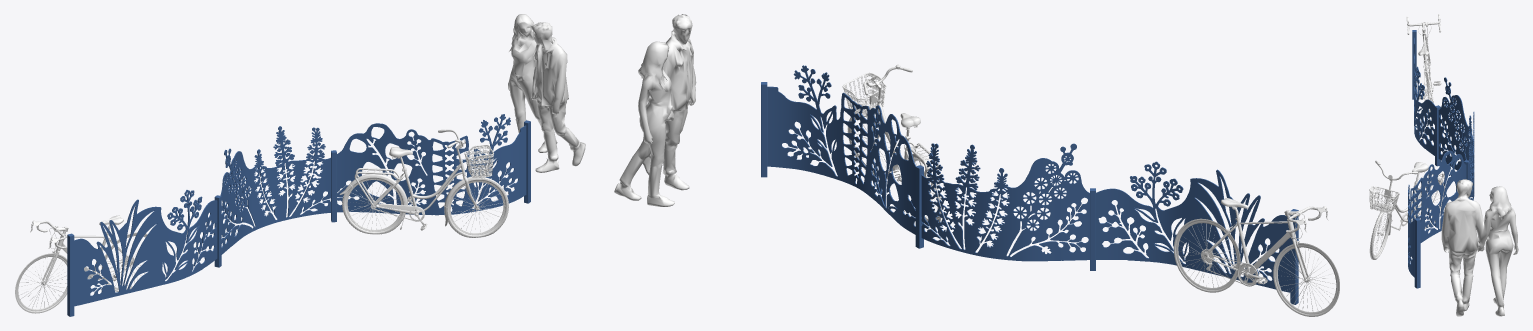
3 renders of one model, left to right at view 1: azimuth 30°, elevation 25°; view 2: azimuth 150°, elevation 25°; view 3: azimuth 270°, elevation 25°, orthographic. The views are drawn at different scales.
Parts seen in each view (by area): view 1: bike_rack, Couple, polySurface845_lambert1_001, Bike, Line002, Line001, Line423, Line422; view 2: bike_rack, Couple, Bike, polySurface845_lambert1_001, Line001, Line423, Line002; view 3: bike_rack, Couple, polySurface845_lambert1_001, Bike, Line001, Line422, Line002.
Boxes of the visible parts, bbox=[...] form: bike_rack: bbox=[74, 114, 526, 306]; Couple: bbox=[508, 14, 585, 172]; polySurface845_lambert1_001: bbox=[339, 129, 508, 237]; Bike: bbox=[15, 215, 147, 313]; Line002: bbox=[67, 233, 74, 316]; Line001: bbox=[524, 120, 530, 203]; Line423: bbox=[331, 150, 336, 222]; Line422: bbox=[214, 195, 221, 267]; bike_rack: bbox=[767, 65, 1290, 292]; Couple: bbox=[614, 14, 696, 206]; Bike: bbox=[1173, 198, 1339, 316]; polySurface845_lambert1_001: bbox=[842, 64, 943, 222]; Line001: bbox=[761, 82, 767, 177]; Line423: bbox=[915, 165, 923, 248]; Line002: bbox=[1290, 209, 1298, 304]; bike_rack: bbox=[1408, 37, 1474, 277]; Couple: bbox=[1441, 179, 1518, 316]; polySurface845_lambert1_001: bbox=[1369, 160, 1445, 259]; Bike: bbox=[1406, 14, 1441, 126]; Line001: bbox=[1414, 218, 1420, 288]; Line422: bbox=[1435, 105, 1440, 166]; Line002: bbox=[1412, 30, 1416, 99].
Bounding box in the file's own units: 7.67 × 1.85 × 2.
